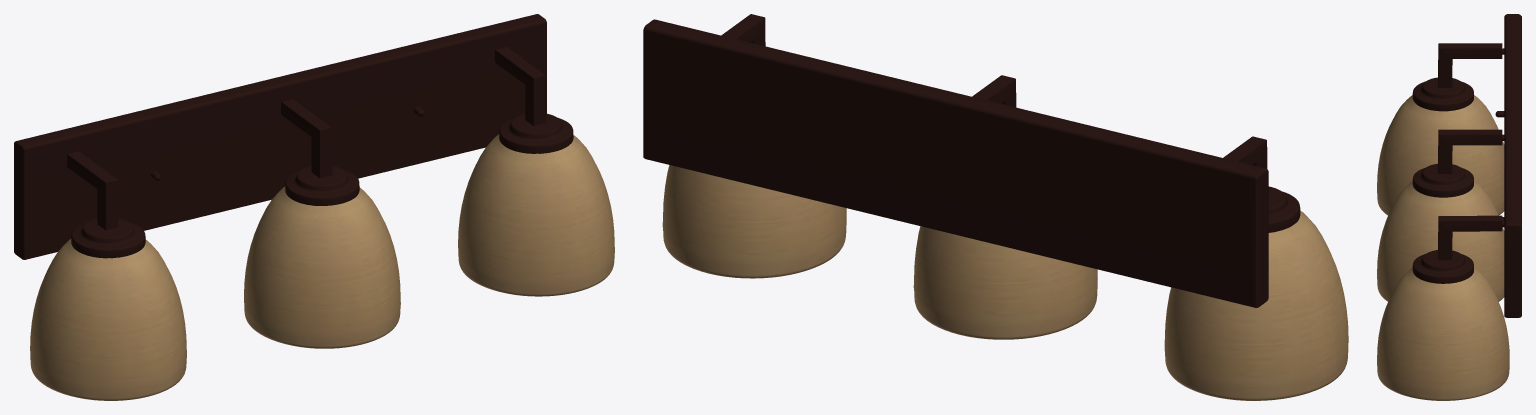
Rendered from abo-B07B4YBVN9.glb.
The picture shows the model from 3 angles, left to right: view 1: azimuth 30°, elevation 25°; view 2: azimuth 150°, elevation 25°; view 3: azimuth 270°, elevation 25°; orthographic projection. The views are drawn at different scales.
Size of the model in its own units: 0.582 by 0.204 by 0.157.
1 material, 1 textured.
